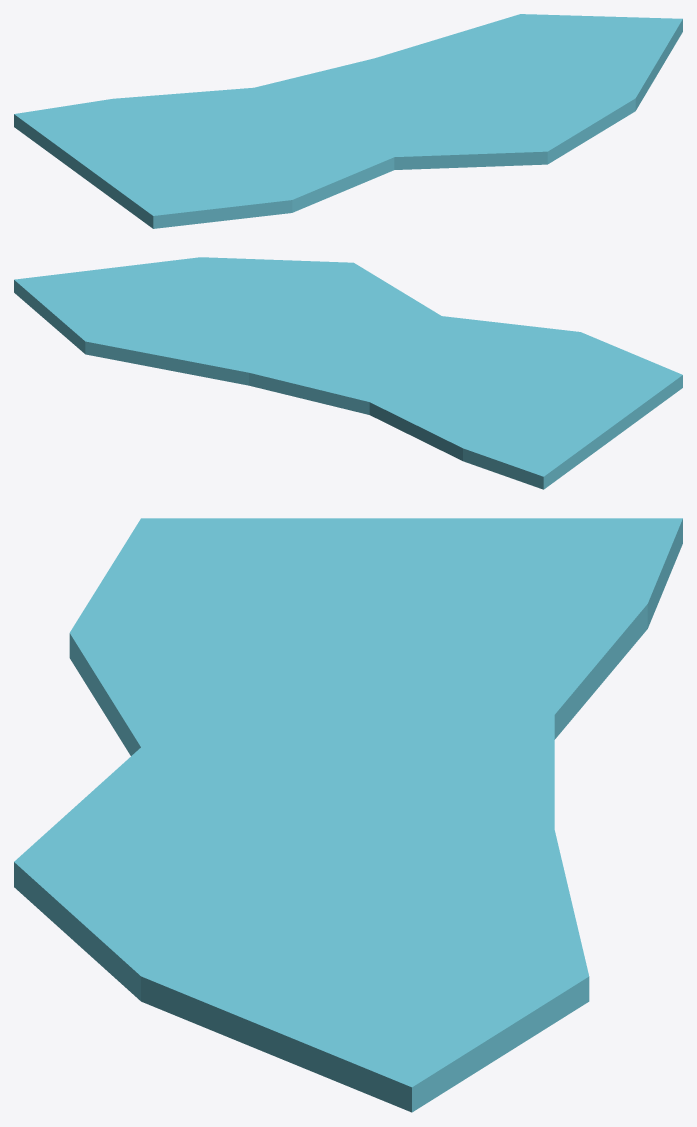
The model's file is WaterOne.fbx.
3 renders of one model, top to bottom at view 1: azimuth 30°, elevation 25°; view 2: azimuth 150°, elevation 25°; view 3: azimuth 270°, elevation 25°, orthographic. The views are drawn at different scales.
Parts seen in each view (by area): view 1: WaterOne; view 2: WaterOne; view 3: WaterOne.
Boxes of the visible parts, box(x1,y1,x2,y2) form: WaterOne: box(14, 14, 682, 228); WaterOne: box(14, 257, 682, 489); WaterOne: box(14, 518, 682, 1112).
Bounding box in the file's own units: 282 × 5.82 × 140.
